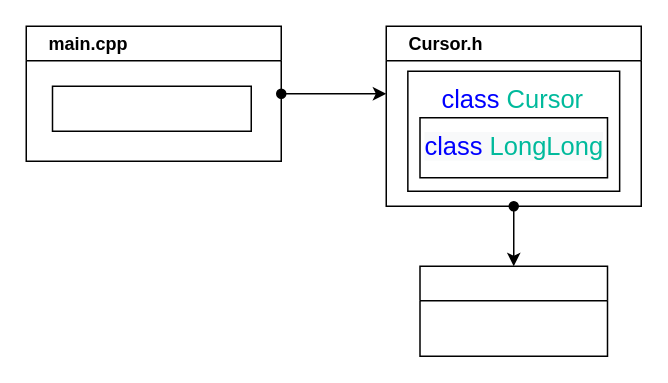
Image size: 668x383. Some labels were removed from this diagram. Each missing label, with the centre of its shape:
"Cursor.cpp" belongs at (513,310).
"main()" belongs at (151,108).
